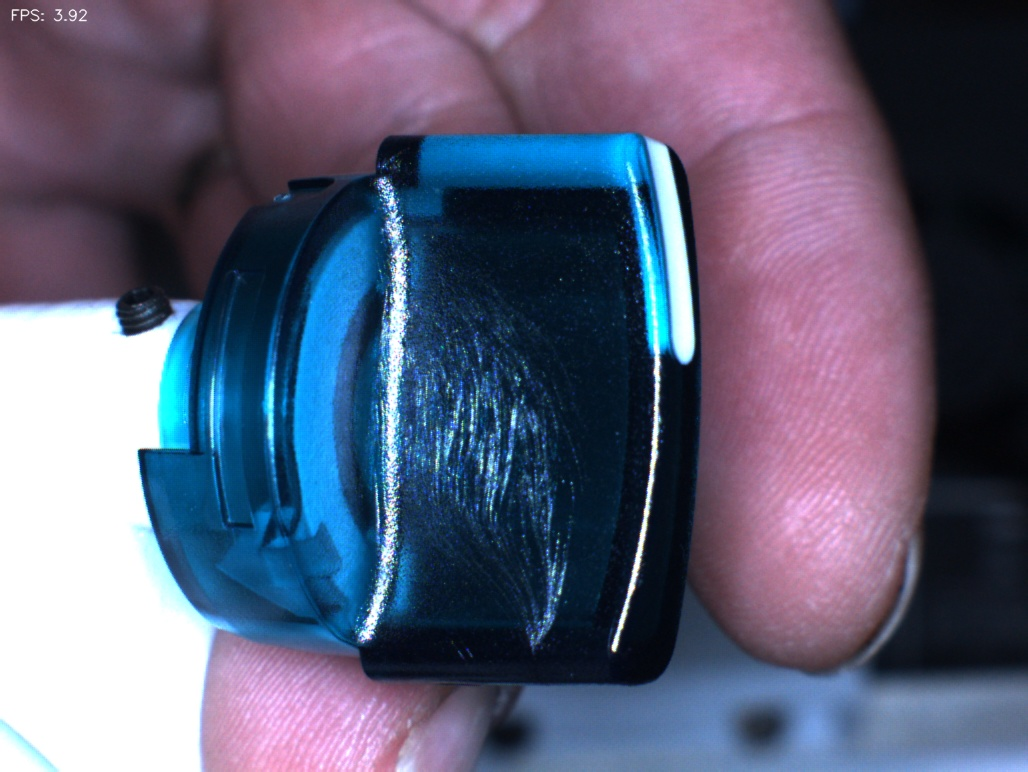Givrage: (410, 264, 586, 656)
